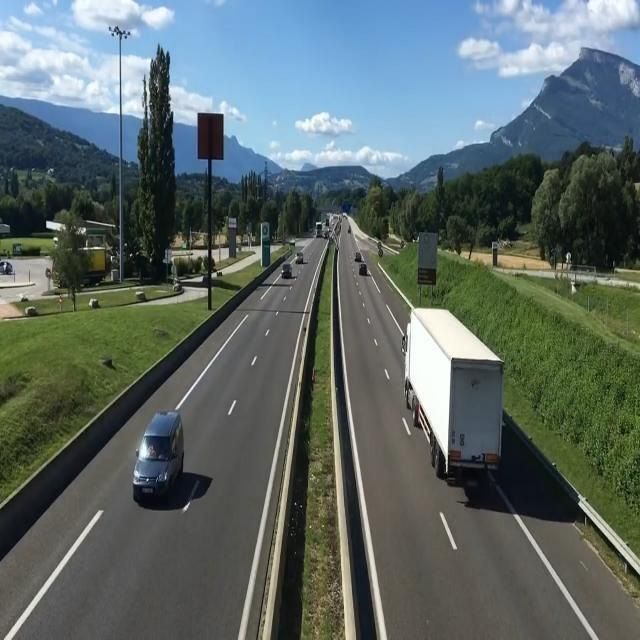Bus: (316, 221, 323, 238)
Car: (131, 410, 186, 505), (0, 261, 15, 274), (281, 263, 293, 278), (359, 264, 368, 276), (294, 252, 303, 264), (354, 252, 362, 262), (34, 319, 58, 322), (324, 230, 329, 239)
Truck: (397, 306, 508, 479), (62, 246, 107, 284)
